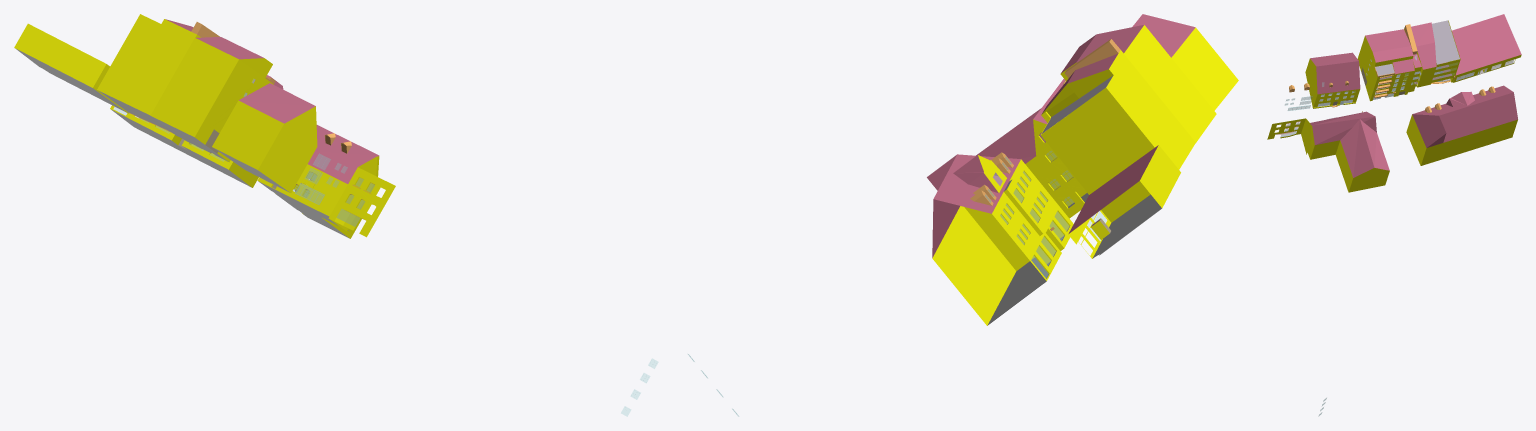
3 renders of one model, left to right at view 1: azimuth 30°, elevation 25°; view 2: azimuth 150°, elevation 25°; view 3: azimuth 270°, elevation 25°, orthographic. The views are drawn at different scales.
Visible parts, largest first — view 1: mesh; view 2: mesh; view 3: mesh.
Boxes of the visible parts, x1,y1,x2,y2 form: mesh: (14, 14, 658, 416); mesh: (688, 14, 1238, 416); mesh: (1267, 14, 1521, 416).
Size of the model in its own units: 96.88 by 78.7 by 64.98.
